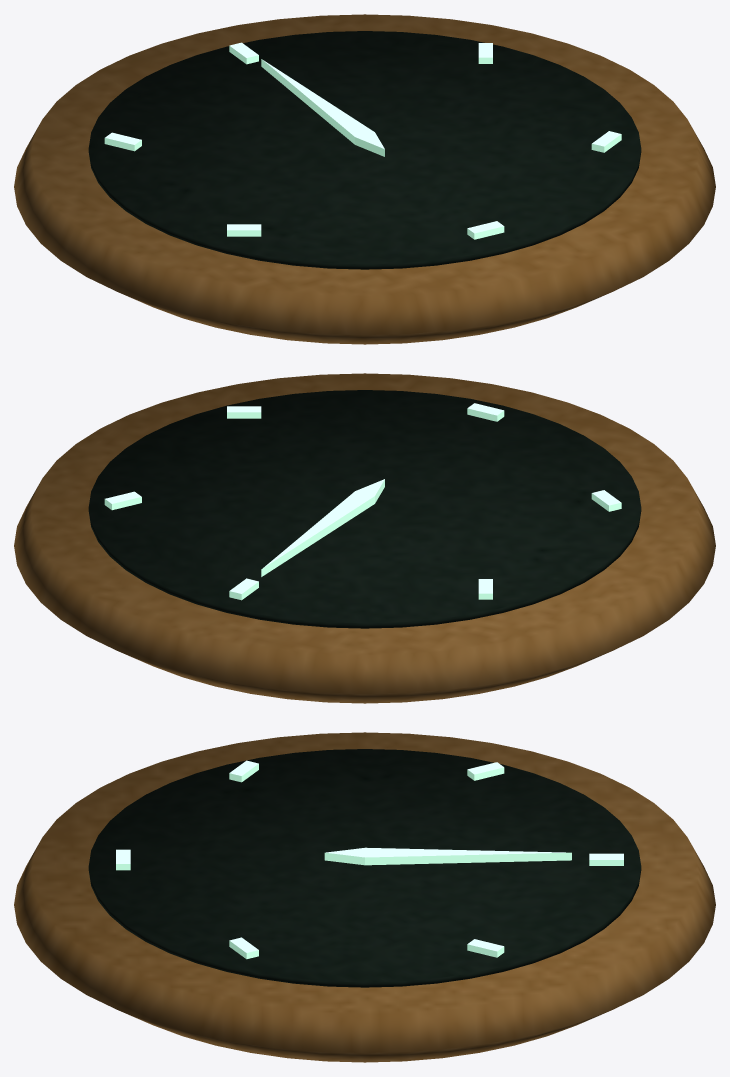
File: time-impression.glb
3 renders of one model, top to bottom at view 1: azimuth 30°, elevation 25°; view 2: azimuth 150°, elevation 25°; view 3: azimuth 270°, elevation 25°, orthographic.
Parts seen in each view (by area): view 1: Time impression face, Time impression rim, Watch_Time_Impression / Mineral light; view 2: Time impression face, Time impression rim, Watch_Time_Impression / Mineral light; view 3: Time impression face, Time impression rim, Watch_Time_Impression / Mineral light.
Boxes of the visible parts, left/top/right/bottom form: Time impression face: left=88, top=31, right=641, bottom=269; Time impression rim: left=14, top=14, right=715, bottom=344; Watch_Time_Impression / Mineral light: left=104, top=42, right=621, bottom=239; Time impression face: left=88, top=390, right=641, bottom=628; Time impression rim: left=14, top=373, right=715, bottom=703; Watch_Time_Impression / Mineral light: left=104, top=403, right=621, bottom=600; Time impression face: left=88, top=749, right=641, bottom=987; Time impression rim: left=14, top=732, right=715, bottom=1062; Watch_Time_Impression / Mineral light: left=116, top=760, right=623, bottom=959.
Bounding box in the file's own units: 0.0122 × 0.0016 × 0.0122.
3 materials, 2 textured.
